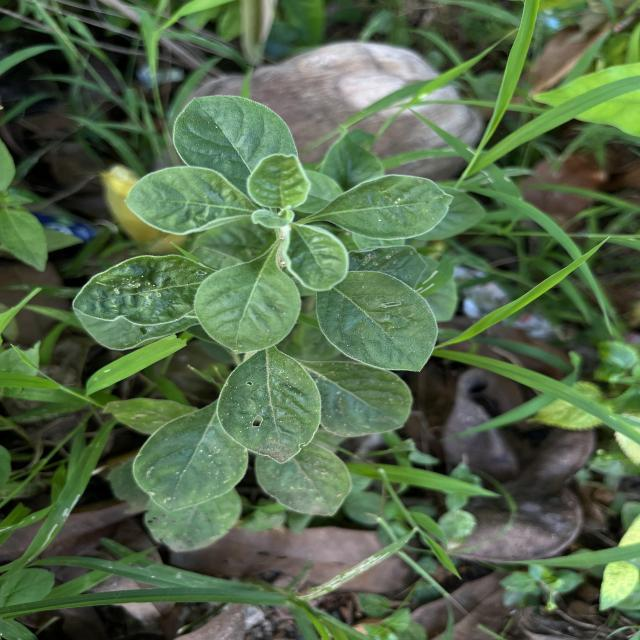Aerva lanata: (312, 268, 440, 376), (170, 92, 303, 192), (215, 348, 326, 466), (296, 172, 457, 242)
